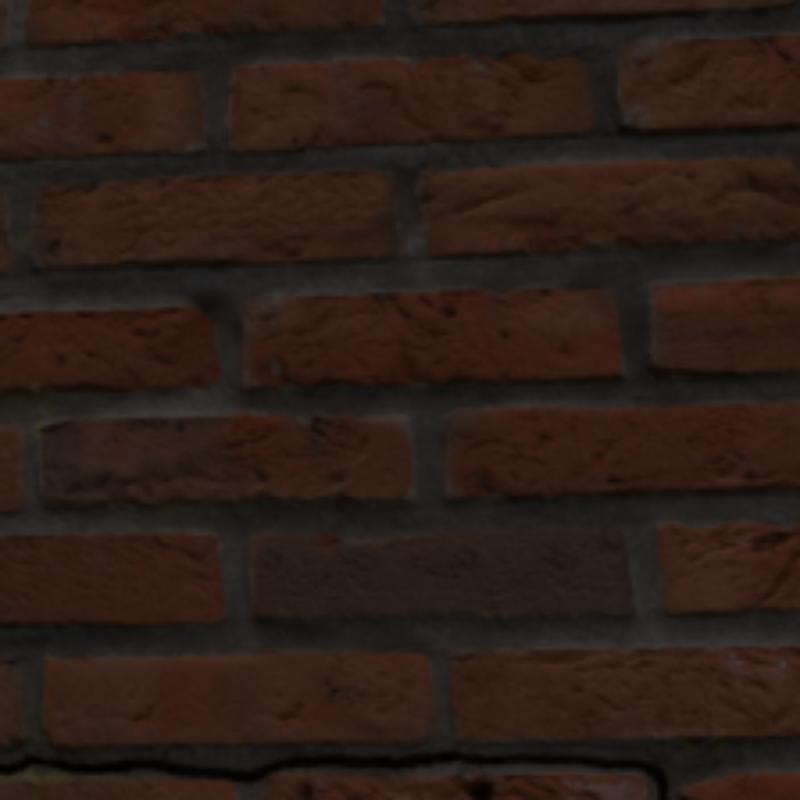pothole: (0, 754, 668, 796)
